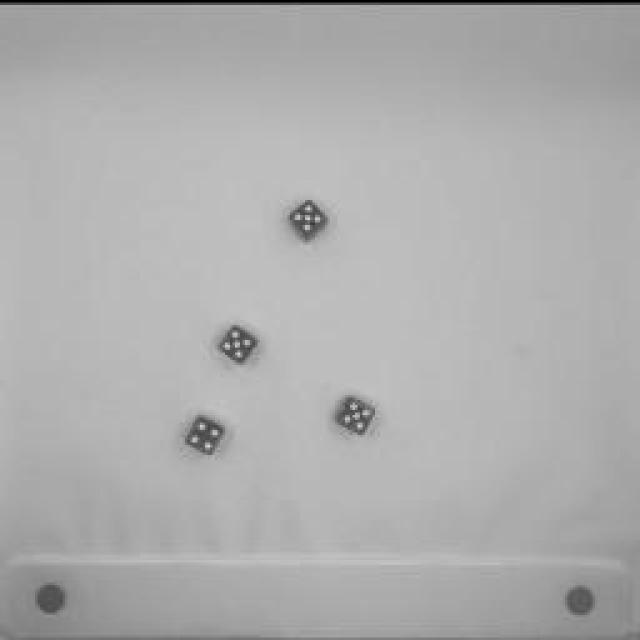dice_4: (181, 410, 231, 460)
dice_5: (212, 315, 268, 367), (284, 189, 334, 246), (328, 386, 382, 436)
